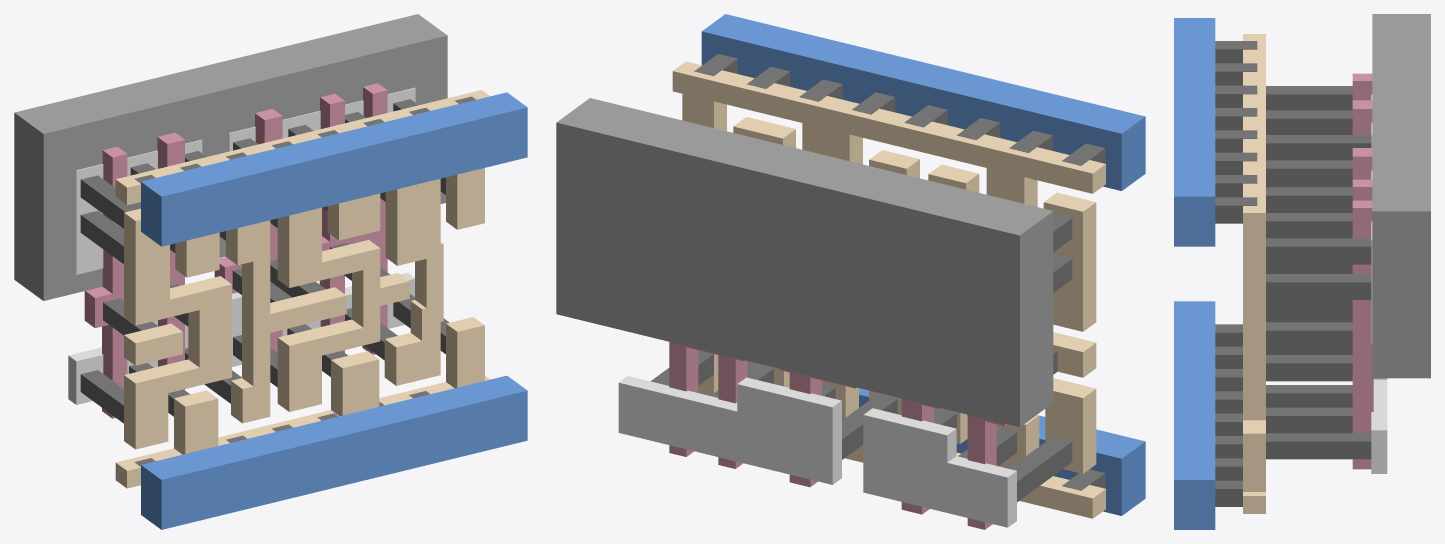
The model's file is sky130_fd_sc_hd__clkdlybuf4s18_2.gds.gltf.
3 views of the same model, side by side, from view 1: azimuth 30°, elevation 25°; view 2: azimuth 150°, elevation 25°; view 3: azimuth 270°, elevation 25° (orthographic). The views are drawn at different scales.
Visible parts, largest first — view 1: sky130_fd_sc_hd__clkdlybuf4s18_2_li1, sky130_fd_sc_hd__clkdlybuf4s18_2_met1, sky130_fd_sc_hd__clkdlybuf4s18_2_nwell, sky130_fd_sc_hd__clkdlybuf4s18_2_licon, sky130_fd_sc_hd__clkdlybuf4s18_2_poly, sky130_fd_sc_hd__clkdlybuf4s18_2_diff, sky130_fd_sc_hd__clkdlybuf4s18_2_mcon; view 2: sky130_fd_sc_hd__clkdlybuf4s18_2_nwell, sky130_fd_sc_hd__clkdlybuf4s18_2_li1, sky130_fd_sc_hd__clkdlybuf4s18_2_diff, sky130_fd_sc_hd__clkdlybuf4s18_2_met1, sky130_fd_sc_hd__clkdlybuf4s18_2_licon, sky130_fd_sc_hd__clkdlybuf4s18_2_poly, sky130_fd_sc_hd__clkdlybuf4s18_2_mcon; view 3: sky130_fd_sc_hd__clkdlybuf4s18_2_licon, sky130_fd_sc_hd__clkdlybuf4s18_2_nwell, sky130_fd_sc_hd__clkdlybuf4s18_2_met1, sky130_fd_sc_hd__clkdlybuf4s18_2_mcon, sky130_fd_sc_hd__clkdlybuf4s18_2_li1, sky130_fd_sc_hd__clkdlybuf4s18_2_poly, sky130_fd_sc_hd__clkdlybuf4s18_2_diff.
Part boxes in pixels (box(x1,y1,x2,y2)): sky130_fd_sc_hd__clkdlybuf4s18_2_li1: box(115, 90, 489, 488); sky130_fd_sc_hd__clkdlybuf4s18_2_met1: box(141, 92, 527, 529); sky130_fd_sc_hd__clkdlybuf4s18_2_nwell: box(14, 14, 447, 300); sky130_fd_sc_hd__clkdlybuf4s18_2_licon: box(80, 99, 449, 423); sky130_fd_sc_hd__clkdlybuf4s18_2_poly: box(84, 83, 387, 418); sky130_fd_sc_hd__clkdlybuf4s18_2_diff: box(68, 87, 415, 404); sky130_fd_sc_hd__clkdlybuf4s18_2_mcon: box(134, 96, 475, 466); sky130_fd_sc_hd__clkdlybuf4s18_2_nwell: box(556, 98, 1053, 427); sky130_fd_sc_hd__clkdlybuf4s18_2_li1: box(672, 61, 1105, 518); sky130_fd_sc_hd__clkdlybuf4s18_2_diff: box(618, 376, 1016, 527); sky130_fd_sc_hd__clkdlybuf4s18_2_met1: box(701, 14, 1145, 515); sky130_fd_sc_hd__clkdlybuf4s18_2_licon: box(650, 213, 1072, 502); sky130_fd_sc_hd__clkdlybuf4s18_2_poly: box(669, 342, 1006, 529); sky130_fd_sc_hd__clkdlybuf4s18_2_mcon: box(694, 54, 1105, 490); sky130_fd_sc_hd__clkdlybuf4s18_2_licon: box(1266, 86, 1371, 459); sky130_fd_sc_hd__clkdlybuf4s18_2_nwell: box(1372, 14, 1430, 378); sky130_fd_sc_hd__clkdlybuf4s18_2_met1: box(1174, 18, 1215, 529); sky130_fd_sc_hd__clkdlybuf4s18_2_mcon: box(1215, 41, 1257, 506); sky130_fd_sc_hd__clkdlybuf4s18_2_li1: box(1243, 34, 1265, 513); sky130_fd_sc_hd__clkdlybuf4s18_2_poly: box(1352, 73, 1373, 469); sky130_fd_sc_hd__clkdlybuf4s18_2_diff: box(1371, 94, 1387, 473).
Bounding box in the file's own units: 4.06 × 3.2 × 2.24.
